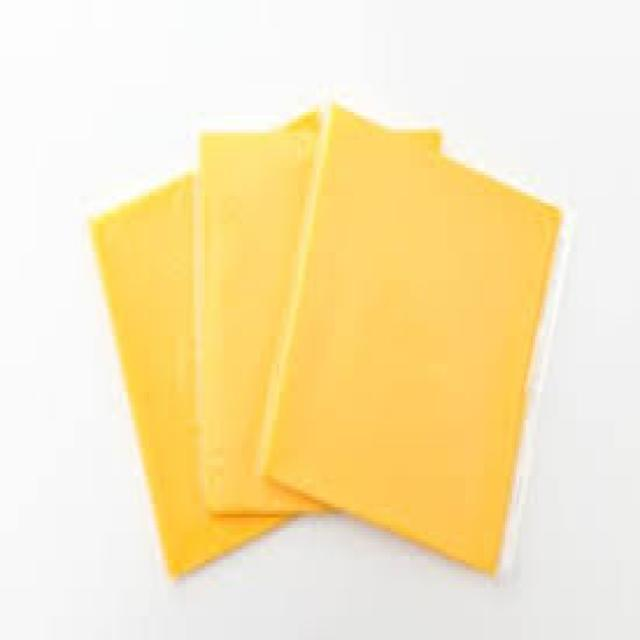slicecheese: (90, 105, 562, 580)
